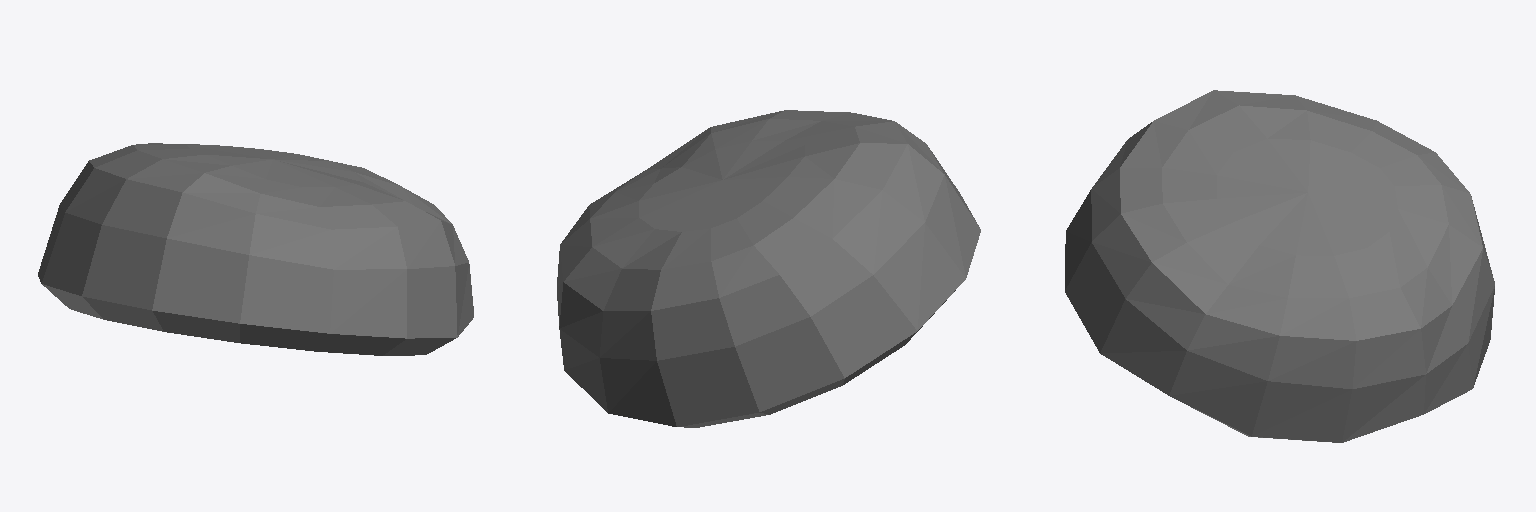
The model's file is shroomTop5.obj.
3 views of the same model, side by side, from view 1: azimuth 30°, elevation 25°; view 2: azimuth 150°, elevation 25°; view 3: azimuth 270°, elevation 25° (orthographic).
Visible parts, largest first — view 1: shroomTop5; view 2: shroomTop5; view 3: shroomTop5.
Part boxes in pixels (x1,y1,x2,y2): shroomTop5: (38, 143, 473, 355); shroomTop5: (557, 110, 980, 427); shroomTop5: (1065, 90, 1494, 442).
Bounding box in the file's own units: 15.57 × 9.24 × 15.6.